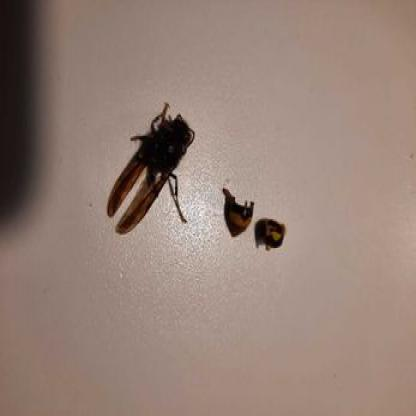Asian Hornet: (109, 97, 197, 239)
